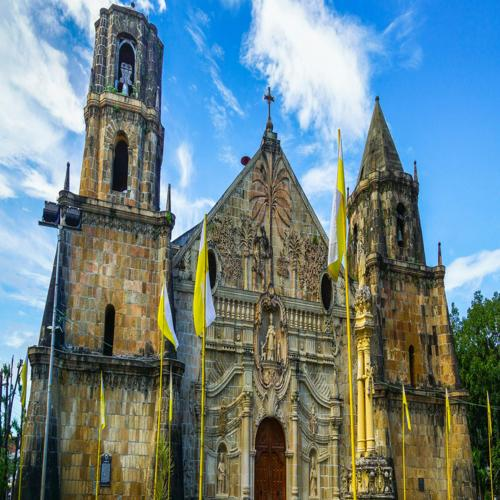Miagao Church: (27, 1, 477, 500)
